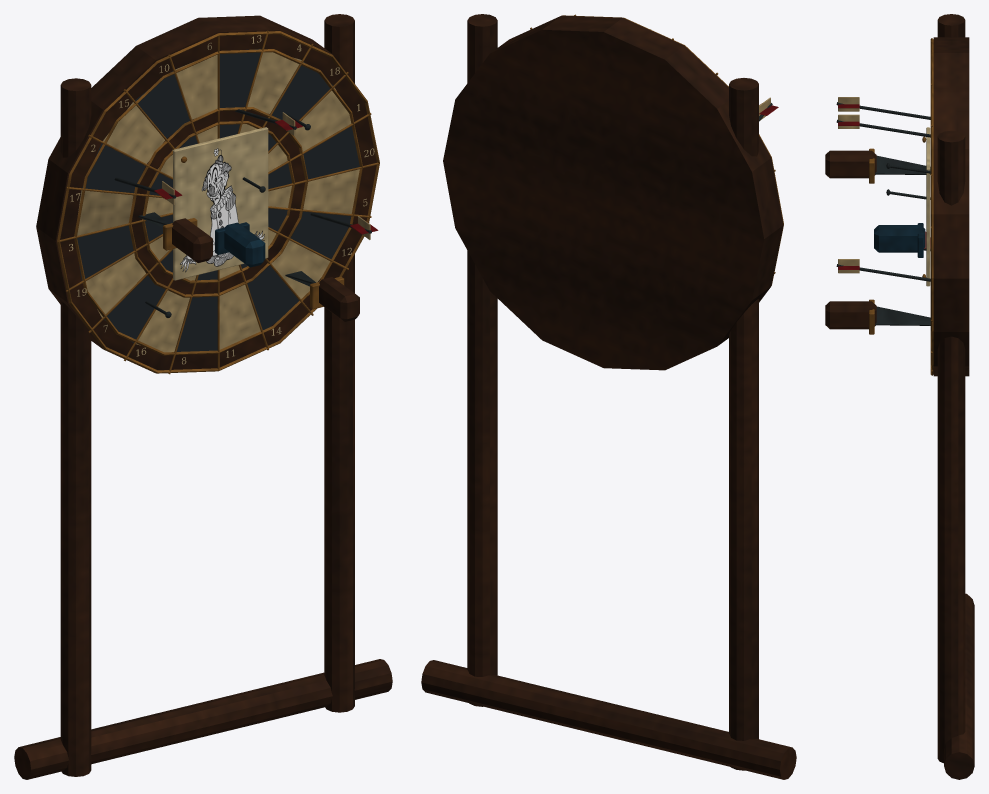
File: dartboard_mordecai.glb
3 renders of one model, left to right at view 1: azimuth 30°, elevation 25°; view 2: azimuth 150°, elevation 25°; view 3: azimuth 270°, elevation 25°, orthographic. The views are drawn at different scales.
Parts seen in each view (by area): view 1: dartboard_mordecai; view 2: dartboard_mordecai; view 3: dartboard_mordecai.
Part boxes in pixels (x1,y1,x2,y2): dartboard_mordecai: (14, 14, 392, 779); dartboard_mordecai: (421, 14, 796, 779); dartboard_mordecai: (825, 14, 974, 779).
Bounding box in the file's own units: 0.96 × 1.81 × 0.379.
Materials: 10 (9 with a texture image).
